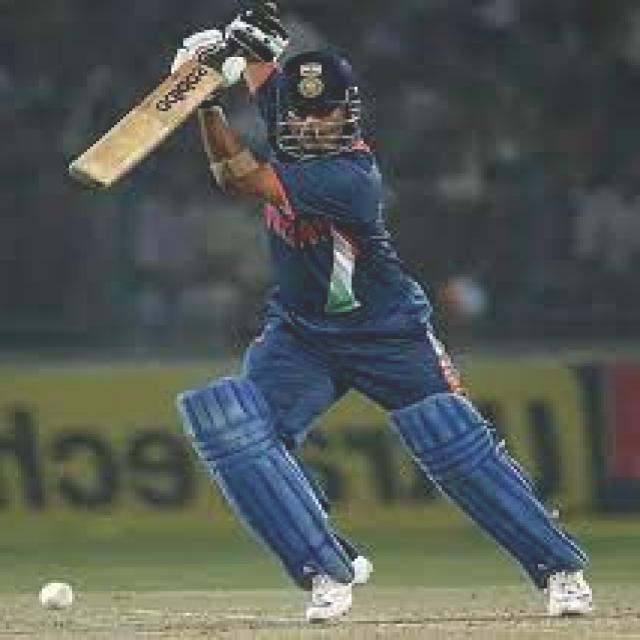toe: (60, 152, 121, 198)
